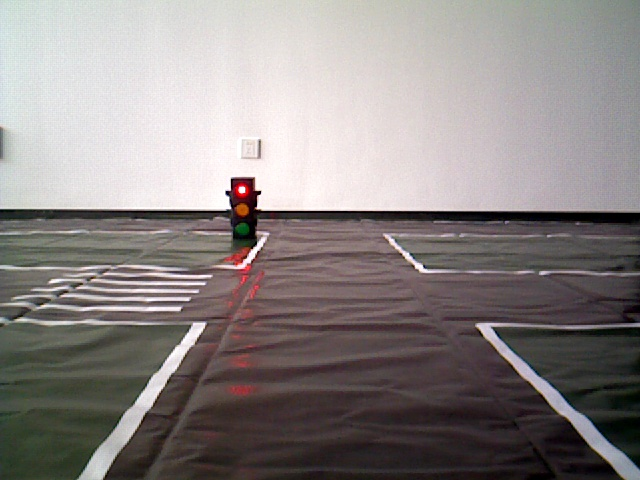red: (231, 176, 252, 242)
